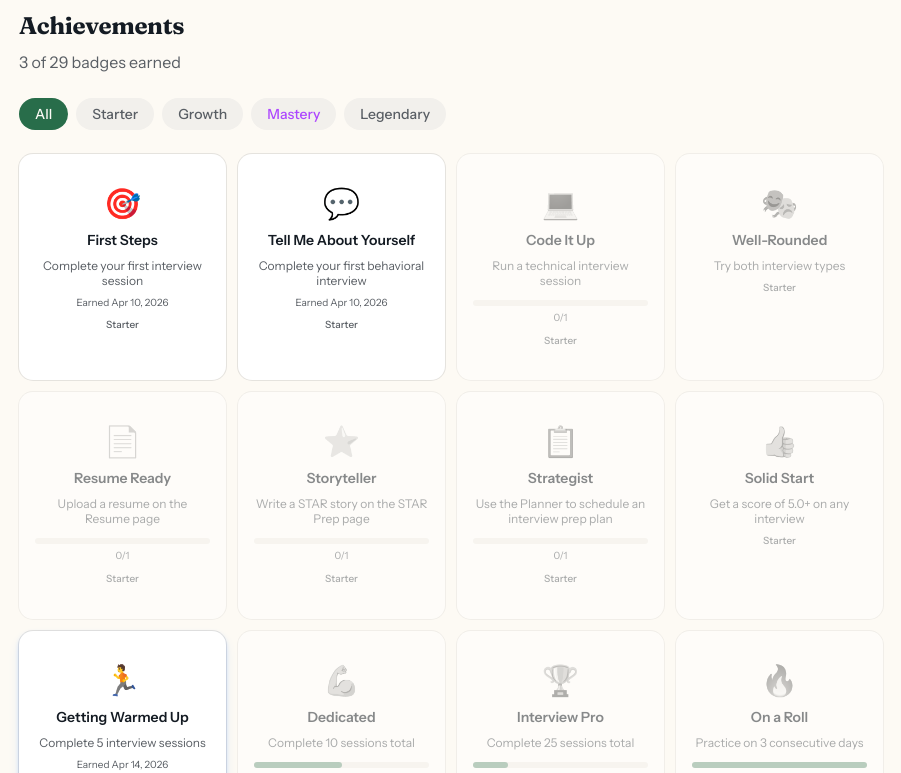
Test: AchievementsPage › filters by tier when a tier button is clicked
// The first one is the filter button (in the filter bar)
Click the button "Mastery".
click(294, 114)  # box x1=251 y1=98 x2=336 y2=130
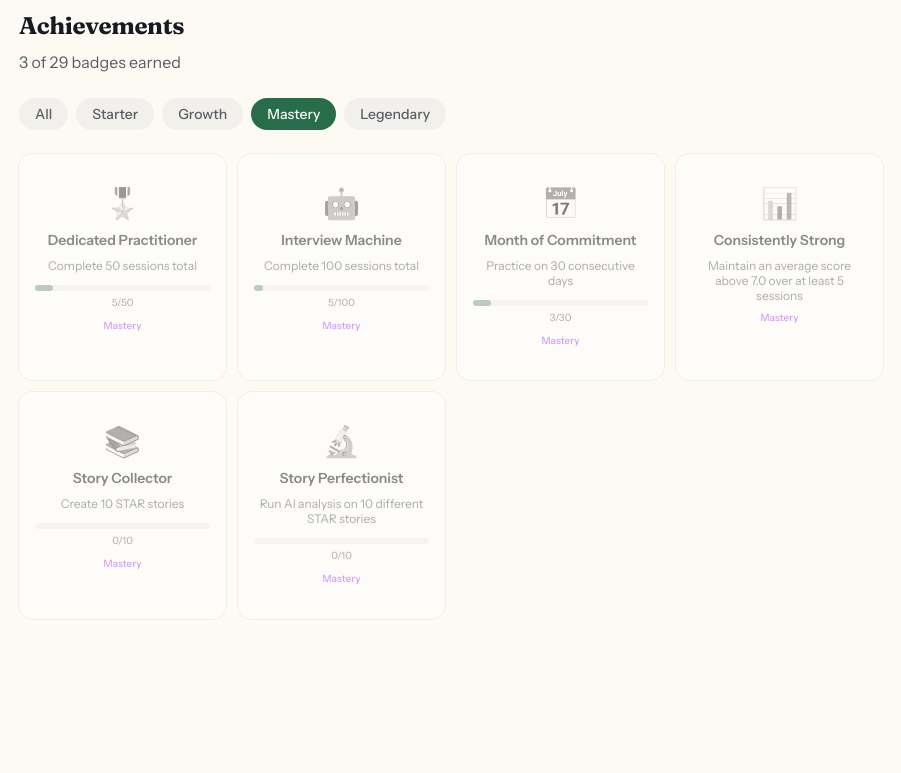
Result: the text "First Steps" is gone
